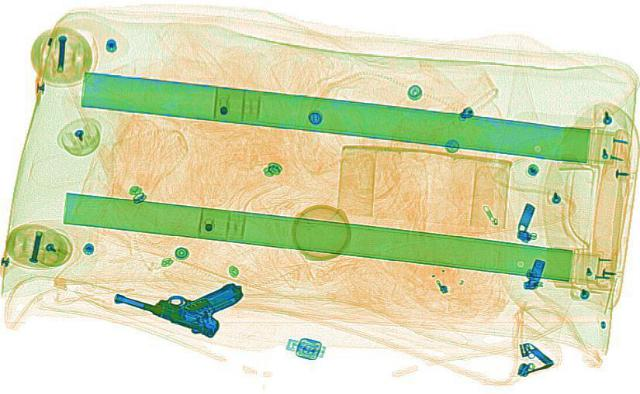Gun: (102, 268, 245, 335)
